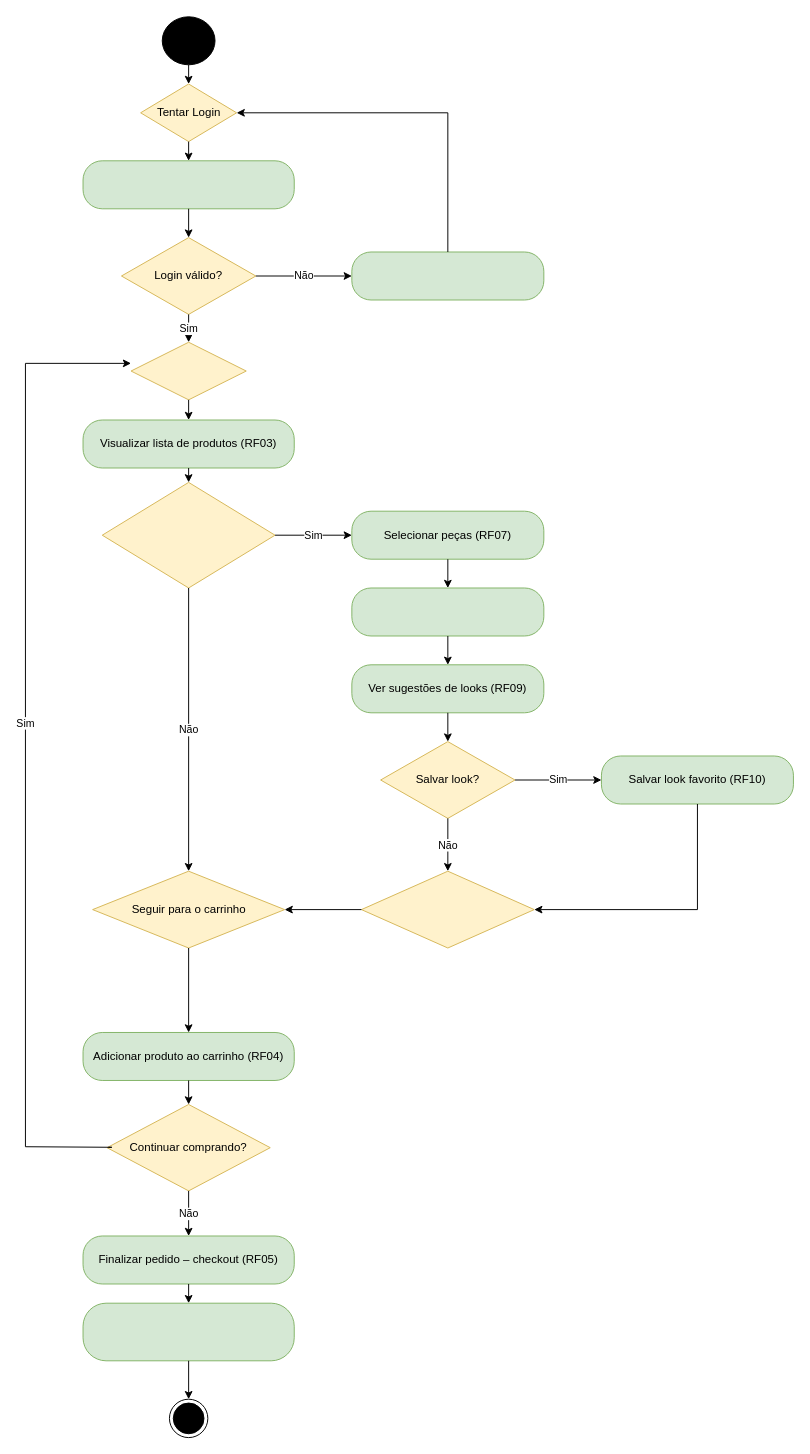
The diagram is 810 pixels wide and 1454 high, and some of its shapes have lost their labels. Each missing label, with the centre of its shape:
"Exibir mensagem de erro" goes at point (447, 275).
"Fazer login (RF01)" goes at point (188, 184).
"Fim do provador" goes at point (447, 909).
"Montar combinação (RF08)" goes at point (447, 611).
"Registrar e exibir histórico de compras (RF06)" goes at point (188, 1331).
"Retornar à lista" goes at point (188, 370).
"Usar provador virtual?" goes at point (188, 534).
